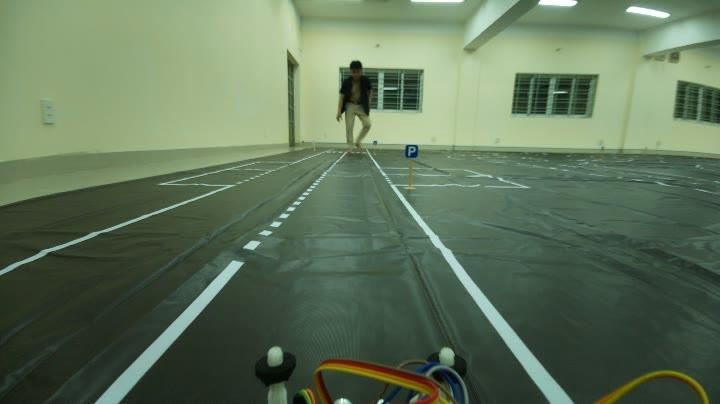parking: (402, 140, 420, 164)
